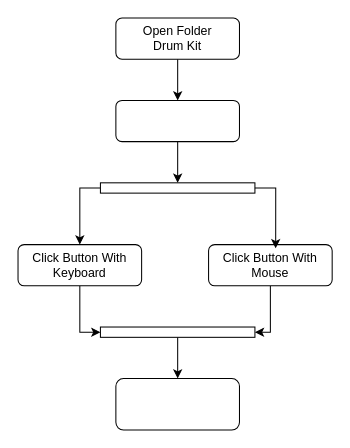
Image size: 350x448. Some labels were removed from this diagram. The shapes that lost their labels are listed below. From the top down, each one's box as (x1, y1, x2, y2) in pixels, then its label:
(115, 99, 239, 142): Open Index.html
(115, 377, 239, 430): Audio Will Play Based on Which Button is Pressed
